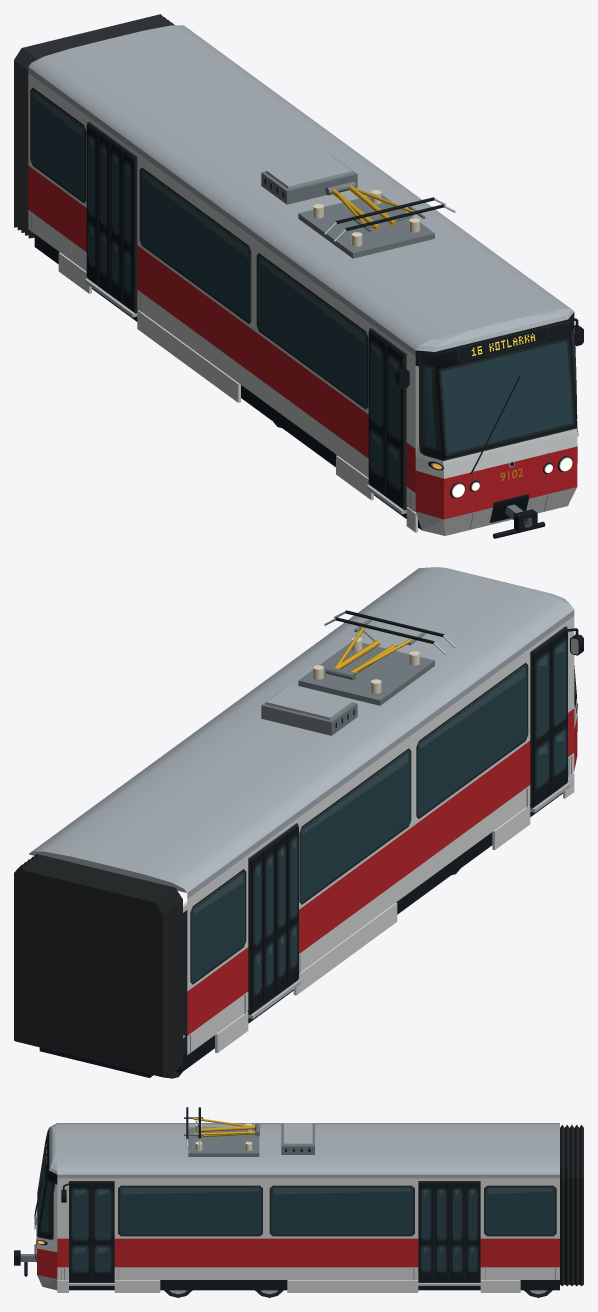
The model's file is kt8d5-c-viewer.glb.
The picture shows the model from 3 angles, top to bottom: view 1: azimuth 30°, elevation 25°; view 2: azimuth 150°, elevation 25°; view 3: azimuth 270°, elevation 25°; orthographic projection. The views are drawn at different scales.
Visible parts, largest first — view 1: kt8d5-c, kt8d5-c-door--1-4.300-0, kt8d5-c-door--1-4.300-1, kt8d5-c-door--1--3.150-1, kt8d5-c-door--1--3.150-2, kt8d5-c-door--1--3.150-0, kt8d5-c-door--1--3.150-3; view 2: kt8d5-c, kt8d5-c-door--1-4.300-0, kt8d5-c-door--1-4.300-1, kt8d5-c-door--1--3.150-0, kt8d5-c-door--1--3.150-1, kt8d5-c-door--1--3.150-2, kt8d5-c-door--1--3.150-3; view 3: kt8d5-c, kt8d5-c-door-1-4.300-1, kt8d5-c-door-1-4.300-0, kt8d5-c-door-1--3.150-0, kt8d5-c-door-1--3.150-1, kt8d5-c-door-1--3.150-2, kt8d5-c-door-1--3.150-3.
Part boxes in pixels (x1,y1,x2,y2): kt8d5-c: (14, 14, 583, 538); kt8d5-c-door--1-4.300-0: (368, 331, 386, 495); kt8d5-c-door--1-4.300-1: (386, 344, 403, 508); kt8d5-c-door--1--3.150-1: (98, 133, 110, 293); kt8d5-c-door--1--3.150-2: (110, 142, 122, 302); kt8d5-c-door--1--3.150-0: (86, 124, 98, 284); kt8d5-c-door--1--3.150-3: (122, 151, 134, 311); kt8d5-c: (14, 567, 583, 1078); kt8d5-c-door--1-4.300-0: (532, 642, 550, 806); kt8d5-c-door--1-4.300-1: (550, 629, 567, 793); kt8d5-c-door--1--3.150-0: (250, 852, 262, 1012); kt8d5-c-door--1--3.150-1: (262, 844, 274, 1004); kt8d5-c-door--1--3.150-2: (274, 835, 286, 995); kt8d5-c-door--1--3.150-3: (287, 826, 298, 986); kt8d5-c: (14, 1107, 583, 1297); kt8d5-c-door-1-4.300-1: (69, 1183, 91, 1281); kt8d5-c-door-1-4.300-0: (92, 1183, 113, 1281); kt8d5-c-door-1--3.150-0: (465, 1183, 479, 1281); kt8d5-c-door-1--3.150-1: (450, 1183, 464, 1281); kt8d5-c-door-1--3.150-2: (434, 1183, 448, 1281); kt8d5-c-door-1--3.150-3: (419, 1183, 433, 1281).
Size of the model in its own units: 2.88 by 3.64 by 11.87.
